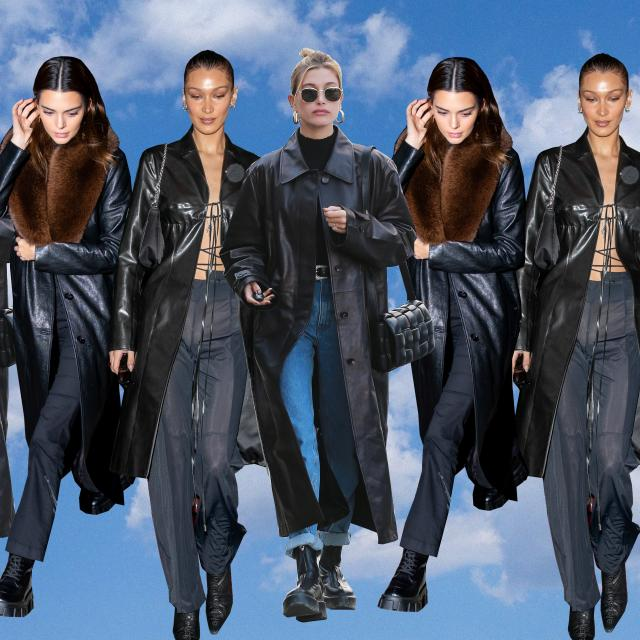Jacket: (230, 134, 412, 547), (375, 124, 530, 518), (1, 132, 145, 507), (130, 129, 266, 495), (522, 141, 640, 487)
